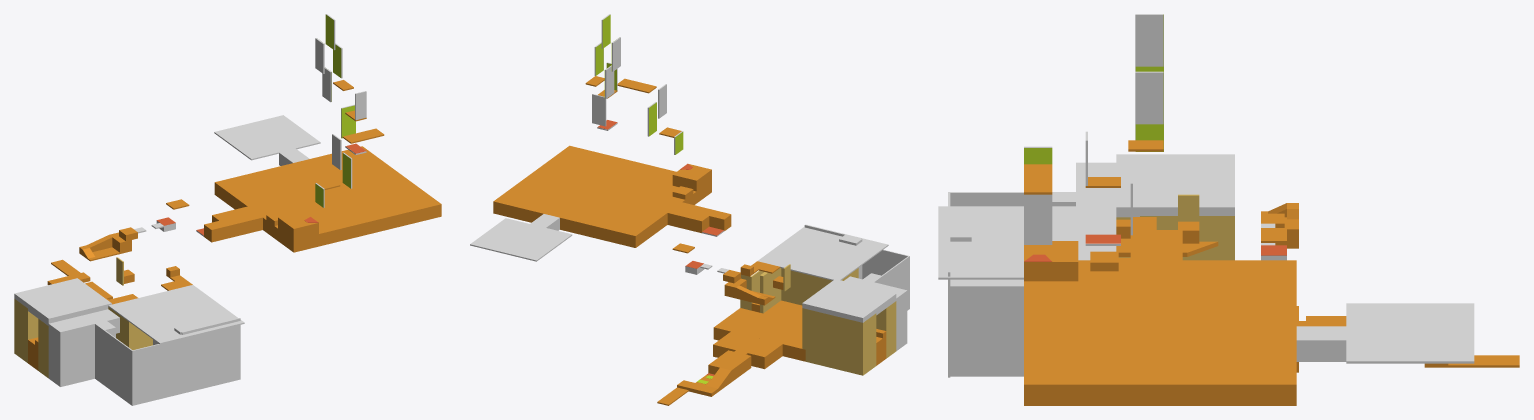
File: Bee Hive.glb
3 views of the same model, side by side, from view 1: azimuth 30°, elevation 25°; view 2: azimuth 150°, elevation 25°; view 3: azimuth 270°, elevation 25° (orthographic). The views are drawn at different scales.
Visible parts, largest first — view 1: cube-col.074, Cube, cube-col.015, cube-col.039, cube-col.076, Cube.001, cube-col.031, cube-col.038, cube-col.073, cube-col.032, cube-col.078, cube-col.035 (+4 smaller); view 2: cube-col.074, Cube, cube-col.033, cube-col.076, Cube.001, cube-col.008, cube-col.007, cube-col.073, cube-col.049, cube-col.004, cube-col.078, cube-col.039 (+7 smaller); view 3: cube-col.074, Cube, cube-col.076, cube-col.055, Cube.001, cube-col.078, cube-col.018, cube-col.075, cube-col.073, cube-col.090, cube-col, cube-col.032 (+7 smaller).
Boxes of the visible parts, x1=… form: cube-col.074: x1=214, y1=146, x2=441, y2=252; Cube: x1=108, y1=285, x2=244, y2=344; cube-col.015: x1=181, y1=318, x2=240, y2=393; cube-col.039: x1=133, y1=339, x2=182, y2=405; cube-col.076: x1=214, y1=115, x2=320, y2=160; Cube.001: x1=14, y1=278, x2=111, y2=323; cube-col.031: x1=48, y1=326, x2=94, y2=386; cube-col.038: x1=104, y1=330, x2=133, y2=405; cube-col.073: x1=212, y1=206, x2=262, y2=238; cube-col.032: x1=28, y1=309, x2=119, y2=334; cube-col.078: x1=278, y1=211, x2=318, y2=239; cube-col.035: x1=120, y1=315, x2=152, y2=349; cube-col.074: x1=493, y1=145, x2=711, y2=247; Cube: x1=757, y1=225, x2=888, y2=280; cube-col.033: x1=805, y1=309, x2=870, y2=375; cube-col.076: x1=470, y1=218, x2=572, y2=261; Cube.001: x1=802, y1=279, x2=896, y2=322; cube-col.008: x1=713, y1=308, x2=805, y2=361; cube-col.007: x1=713, y1=331, x2=782, y2=369; cube-col.073: x1=667, y1=202, x2=715, y2=233; cube-col.049: x1=781, y1=268, x2=815, y2=305; cube-col.004: x1=708, y1=350, x2=751, y2=382; cube-col.078: x1=672, y1=164, x2=711, y2=191; cube-col.039: x1=862, y1=249, x2=908, y2=279; cube-col.074: x1=1024, y1=260, x2=1296, y2=405; Cube: x1=938, y1=206, x2=1116, y2=279; cube-col.076: x1=1346, y1=303, x2=1474, y2=363; cube-col.055: x1=950, y1=279, x2=1023, y2=376; Cube.001: x1=1116, y1=154, x2=1234, y2=215; cube-col.078: x1=1024, y1=241, x2=1078, y2=281; cube-col.018: x1=1140, y1=216, x2=1234, y2=260; cube-col.075: x1=1296, y1=326, x2=1346, y2=361; cube-col.073: x1=1130, y1=230, x2=1182, y2=260; cube-col.090: x1=1135, y1=71, x2=1163, y2=124; cube-col: x1=1135, y1=14, x2=1163, y2=66; cube-col.032: x1=1076, y1=162, x2=1139, y2=217.
Size of the model in its own units: 307 by 227 by 245.
